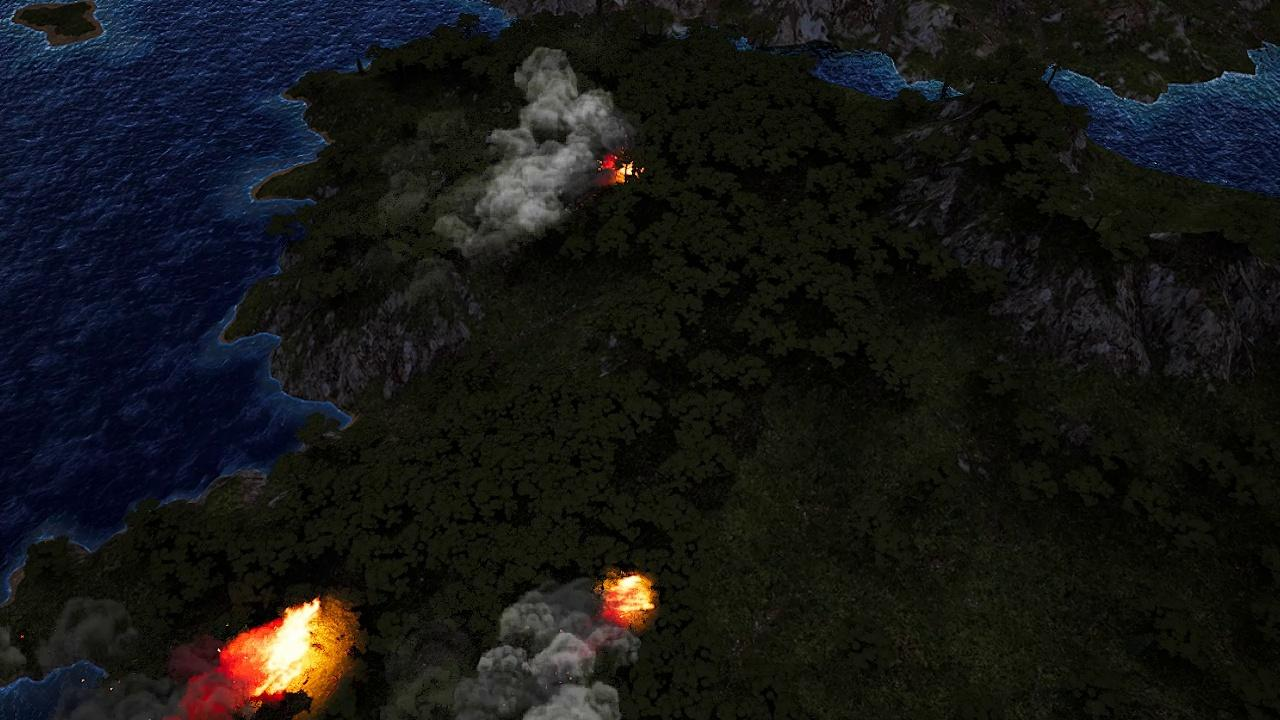fire: (227, 596, 333, 701), (601, 571, 656, 624), (603, 155, 641, 186)
smoke: (368, 44, 638, 323), (326, 574, 654, 716), (0, 593, 255, 716)
